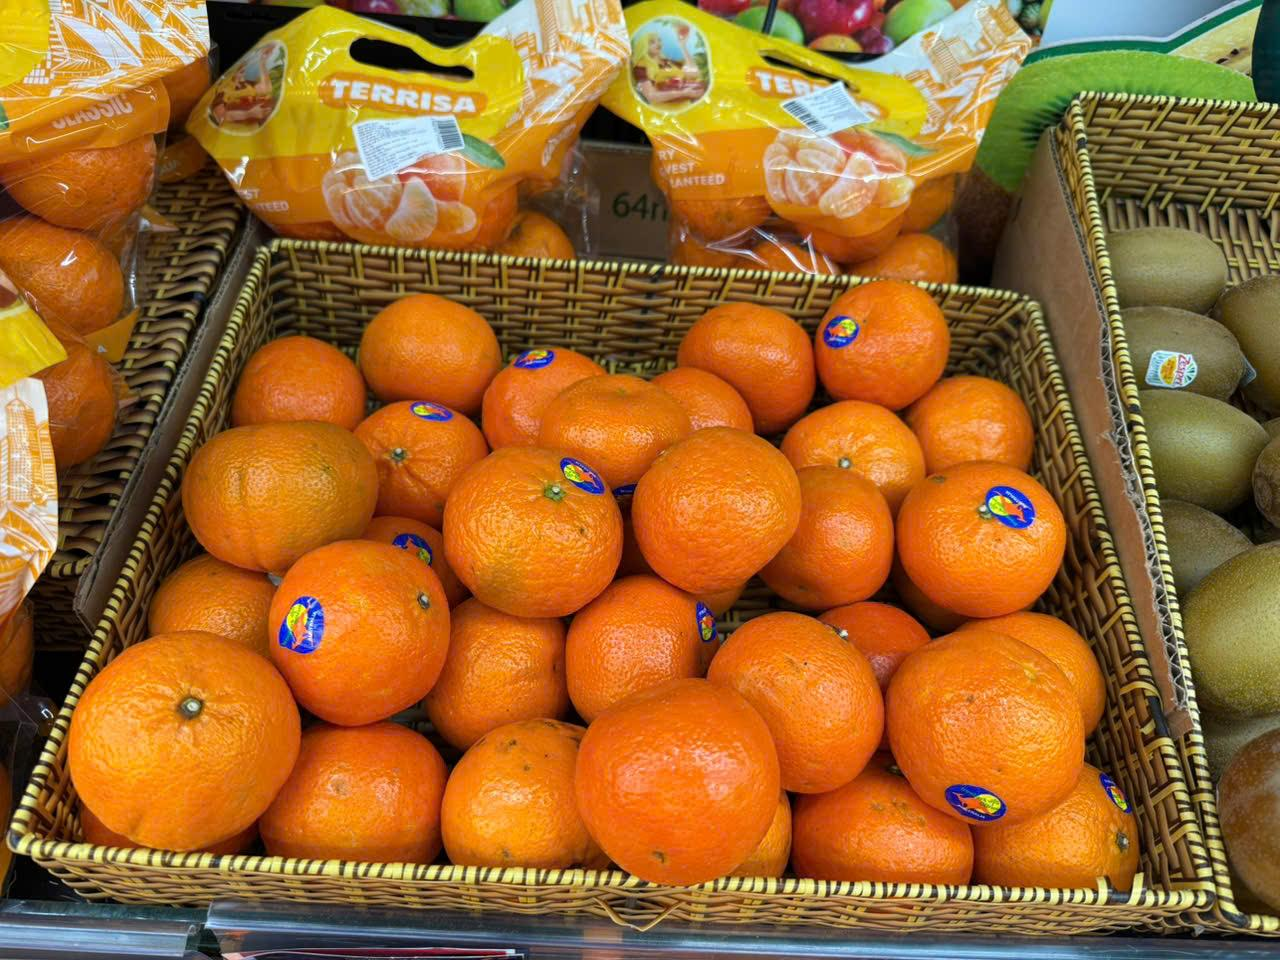orange: (62, 624, 296, 843), (570, 669, 790, 895), (262, 530, 460, 739), (880, 624, 1080, 822), (706, 598, 896, 795), (432, 441, 615, 627), (632, 414, 797, 601), (902, 453, 1070, 617), (258, 718, 446, 862), (438, 716, 588, 889), (802, 772, 986, 891), (193, 433, 371, 554), (570, 579, 709, 706), (436, 598, 563, 726), (354, 288, 493, 403), (820, 276, 944, 399), (682, 296, 812, 411), (354, 404, 477, 515), (796, 463, 896, 597), (1014, 778, 1138, 880), (546, 370, 678, 462), (906, 372, 1035, 464), (226, 335, 351, 421), (792, 398, 917, 475)
